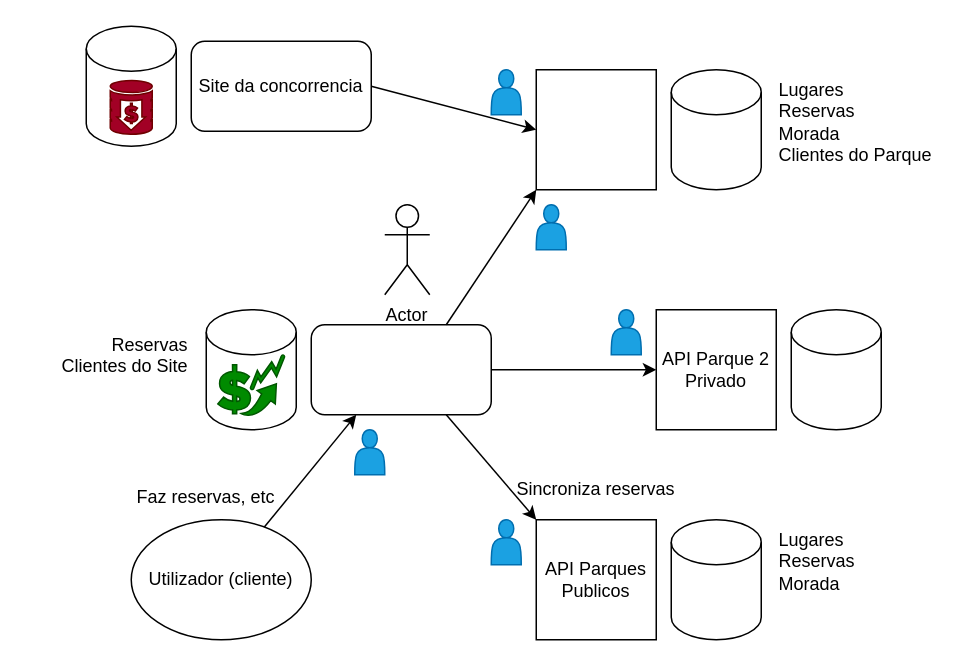
This 966x666 diagram has some shape labels left out. The shapes that lost their labels are listed below. From the top down, each one's box as (x1, y1, x2, y2) in pixels, then its label:
(535, 68, 656, 190): API Parque 1 Privado
(310, 323, 491, 415): Sistema Central Jakim das Coives
